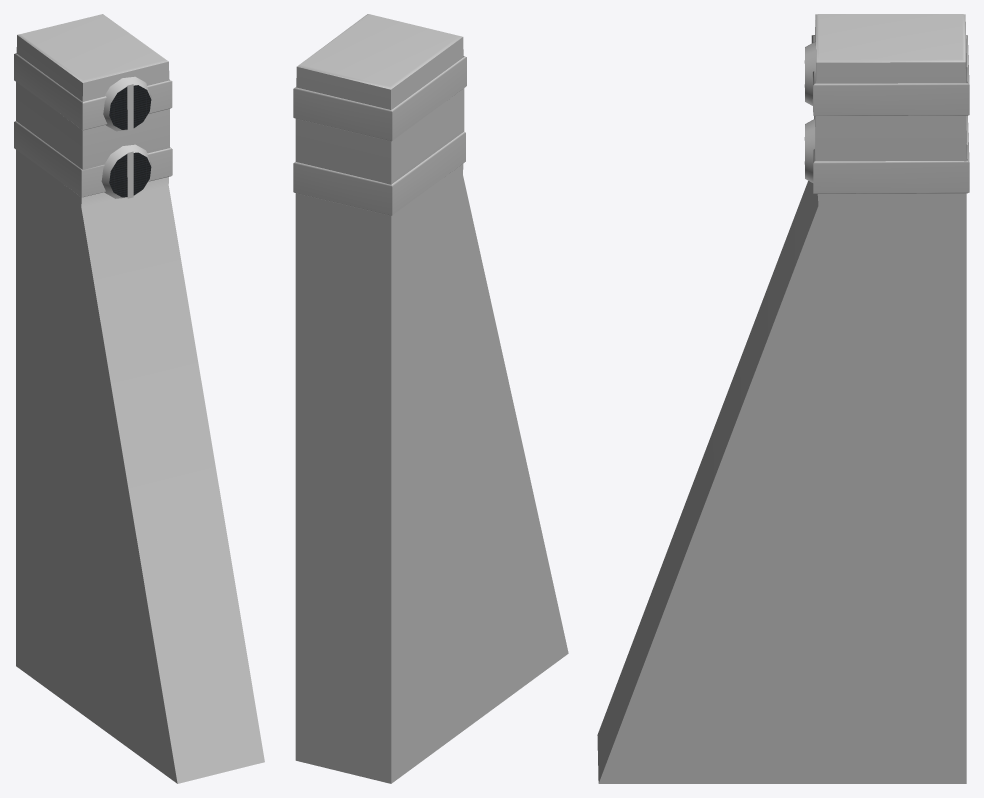
Rendered from Wall1_el1_L2.fbx.
3 views of the same model, side by side, from view 1: azimuth 30°, elevation 25°; view 2: azimuth 150°, elevation 25°; view 3: azimuth 270°, elevation 25° (orthographic). The views are drawn at different scales.
Visible parts, largest first — view 1: polySurface164; view 2: polySurface164; view 3: polySurface164.
Boxes of the visible parts, x1,y1,x2,y2 form: polySurface164: [14, 14, 264, 783]; polySurface164: [293, 14, 568, 783]; polySurface164: [597, 14, 969, 783].
Size of the model in its own units: 519 by 3446 by 1607.
